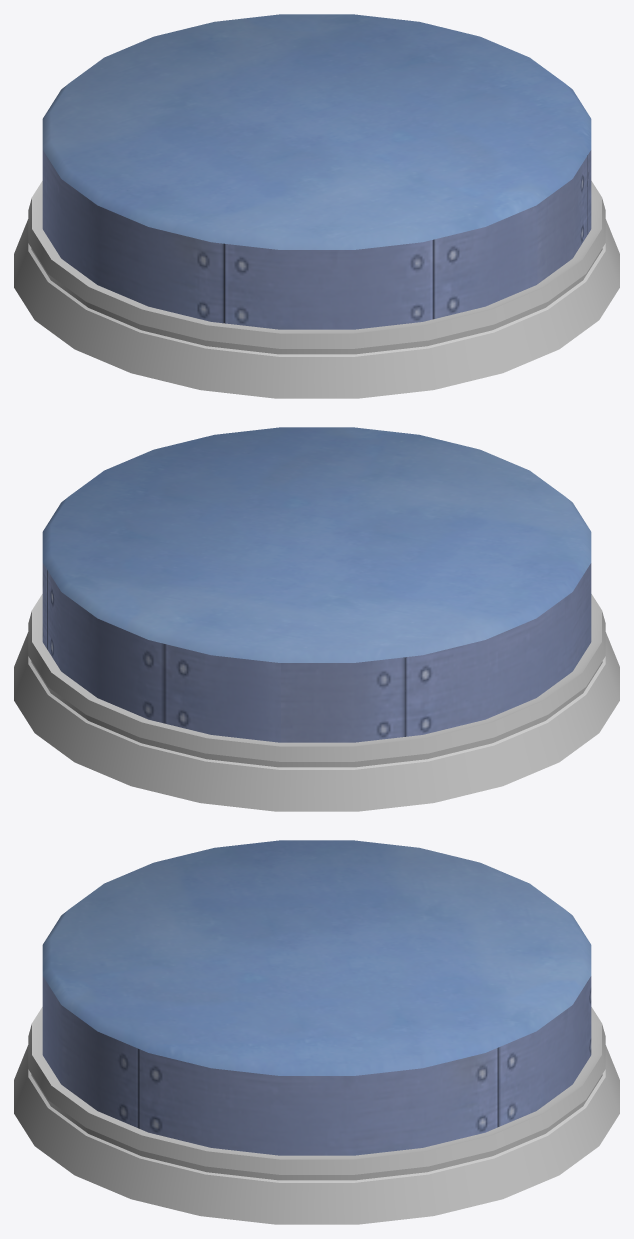
Rendered from CirclePlatform.FBX.
3 views of the same model, one above another, from view 1: azimuth 30°, elevation 25°; view 2: azimuth 150°, elevation 25°; view 3: azimuth 270°, elevation 25° (orthographic).
Visible parts, largest first — view 1: Cylinder001, Trim; view 2: Cylinder001, Trim; view 3: Cylinder001, Trim.
Boxes of the visible parts, left/top/right/bottom form: Cylinder001: left=42, top=14, right=591, bottom=329; Trim: left=14, top=181, right=619, bottom=398; Cylinder001: left=42, top=427, right=591, bottom=742; Trim: left=14, top=594, right=619, bottom=811; Cylinder001: left=42, top=840, right=591, bottom=1155; Trim: left=14, top=1007, right=619, bottom=1224.
Bounding box in the file's own units: 219 × 57.5 × 219.
